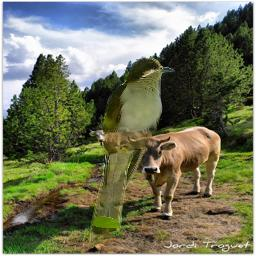Cuckoo: (89, 57, 175, 248)
